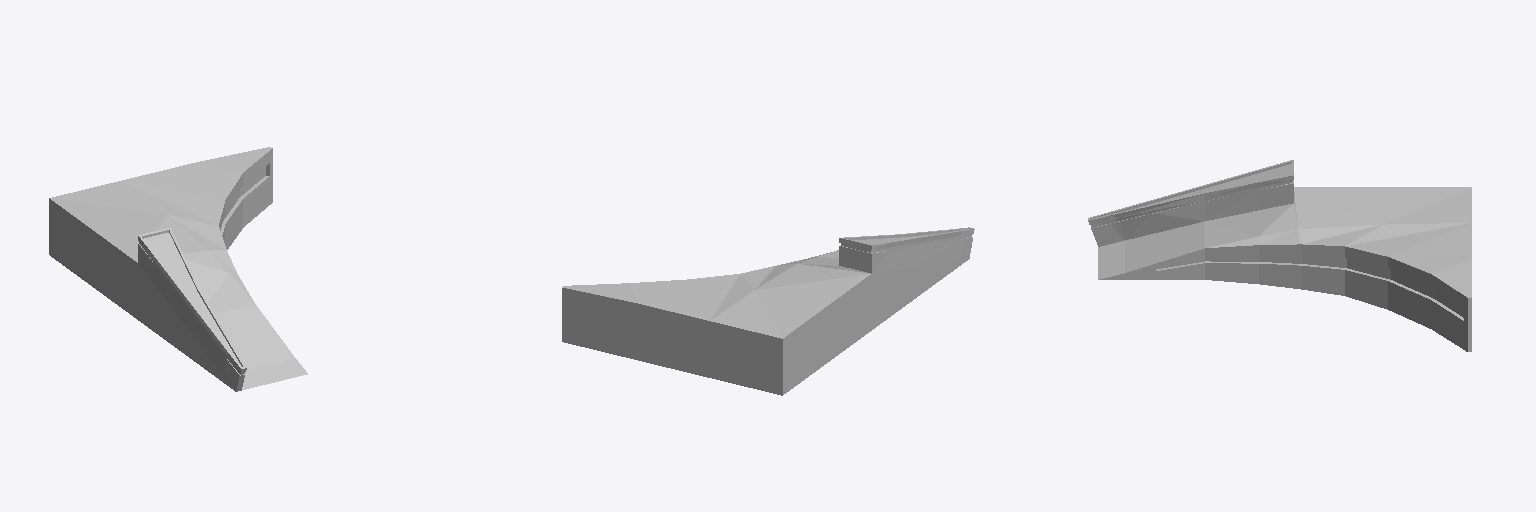
Rendered from multiball_base.obj.
The picture shows the model from 3 angles: view 1: azimuth 30°, elevation 25°; view 2: azimuth 150°, elevation 25°; view 3: azimuth 270°, elevation 25°; orthographic projection.
Parts seen in each view (by area): view 1: polySurface3 Ship_Ramp_01; view 2: polySurface3 Ship_Ramp_01; view 3: polySurface3 Ship_Ramp_01.
Part boxes in pixels (x1,y1,x2,y2): polySurface3 Ship_Ramp_01: (49,147,307,391); polySurface3 Ship_Ramp_01: (562,227,974,395); polySurface3 Ship_Ramp_01: (1088,160,1471,351).
Size of the model in its own units: 2.67 by 0.981 by 4.02.